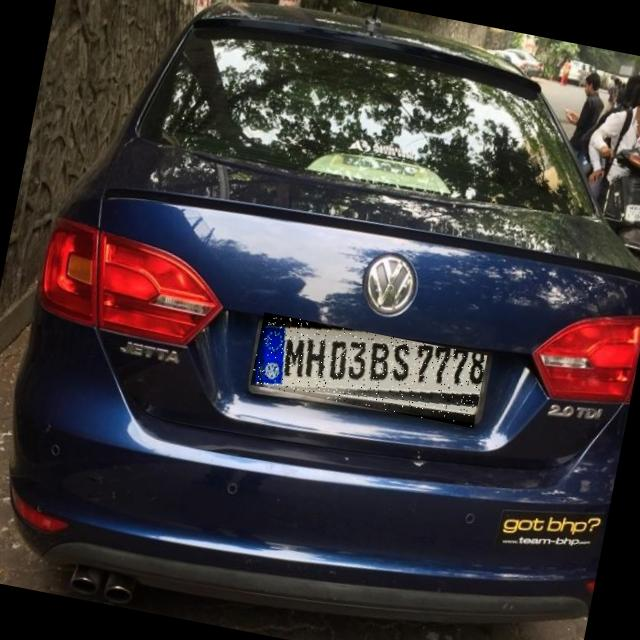Plate: (252, 313, 489, 429)
